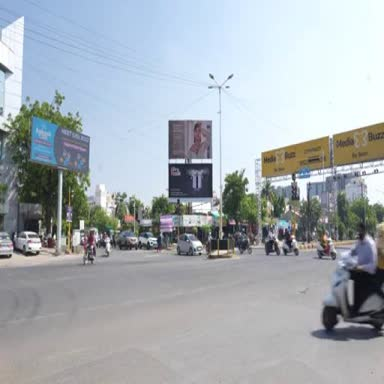Car: (15, 232, 41, 254), (177, 234, 202, 256), (0, 232, 14, 258), (118, 231, 137, 249), (139, 233, 157, 249)
